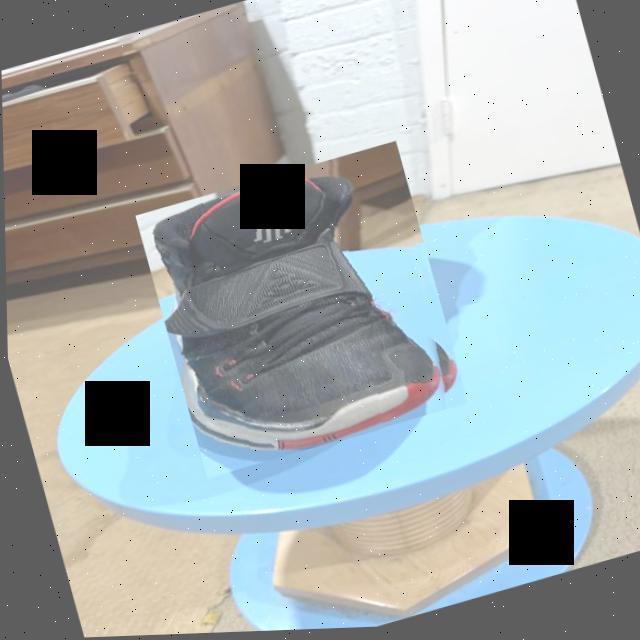shoe: (133, 141, 466, 481)
